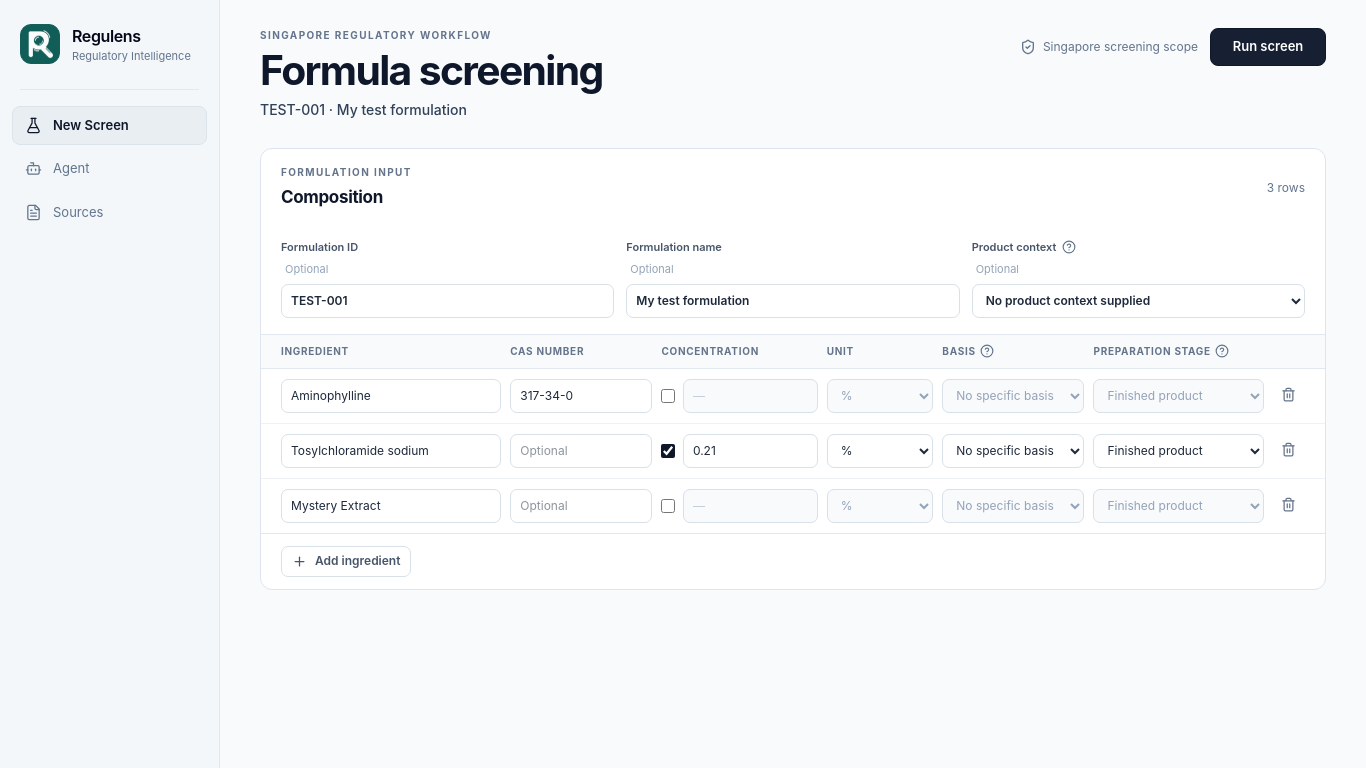
Test case: formula screening vertical slice › renders Regulens branding and only the active MVP workflows
The image size is (1366, 768).
Expected: the text "Regulens" is shown, [72,26,140,46]
Expected: the picture named "Regulens logo" is shown, [24,29,56,60]
Click the button "Agent": (110, 169) [12,149,207,188]
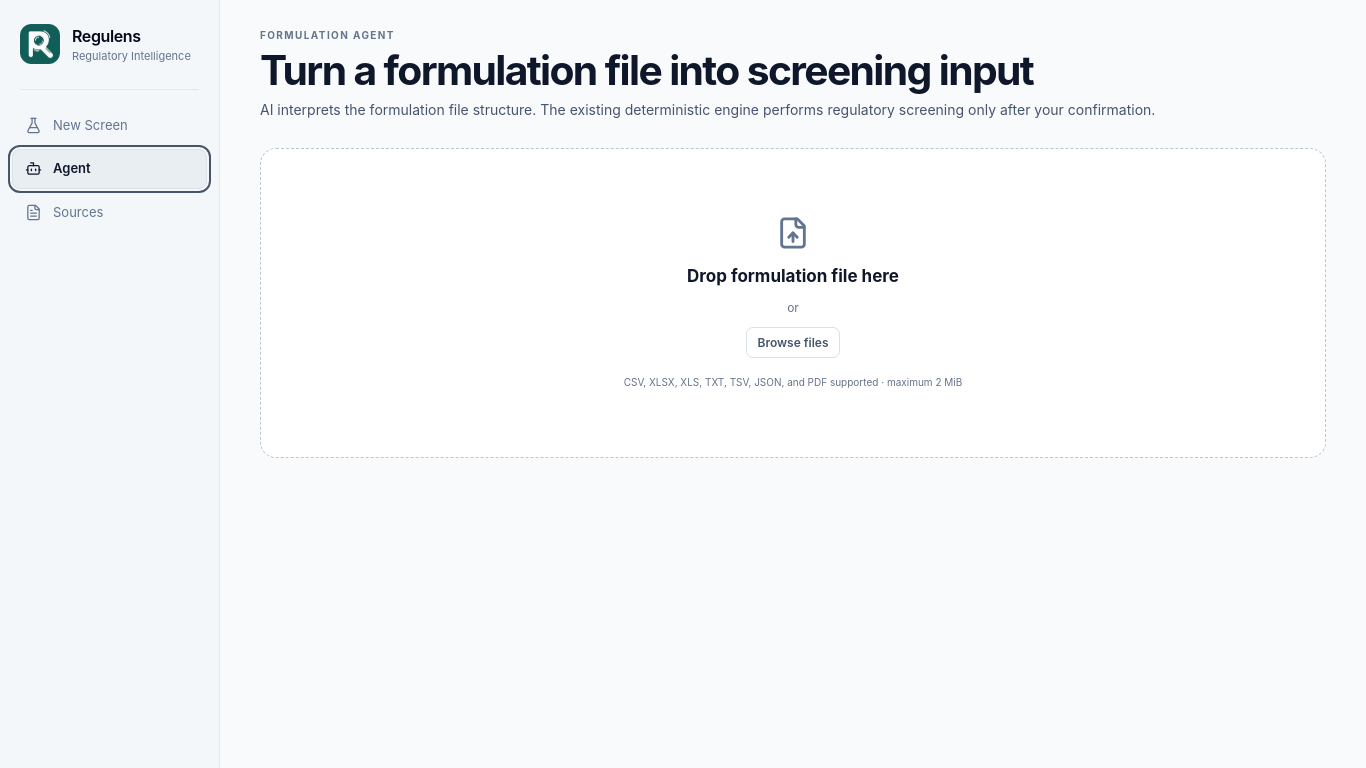
Expected: the heading "Turn a formulation file into screening input" is shown, [260,45,1033,95]
